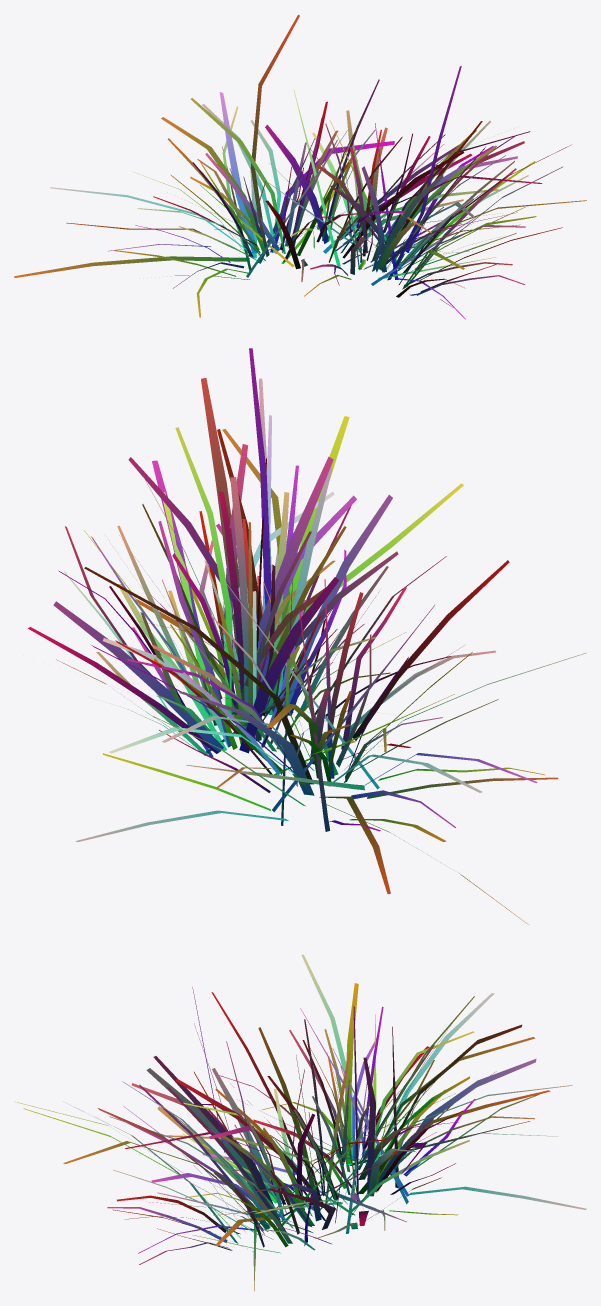
The model's file is Wild_Grass_vlkhcbxia_High_vlkhcbxia_VarF_LOD2.fbx.
The picture shows the model from 3 angles, top to bottom: view 1: azimuth 30°, elevation 25°; view 2: azimuth 150°, elevation 25°; view 3: azimuth 270°, elevation 25°; orthographic projection. The views are drawn at different scales.
Visible parts, largest first — view 1: _q9ta_VarF_LOD3; view 2: _q9ta_VarF_LOD3; view 3: _q9ta_VarF_LOD3.
Boxes of the visible parts, x1,y1,x2,y2 form: _q9ta_VarF_LOD3: (14,14,586,319); _q9ta_VarF_LOD3: (28,348,586,924); _q9ta_VarF_LOD3: (14,954,586,1291).
Bounding box in the file's own units: 28.93 × 15.66 × 28.79.
